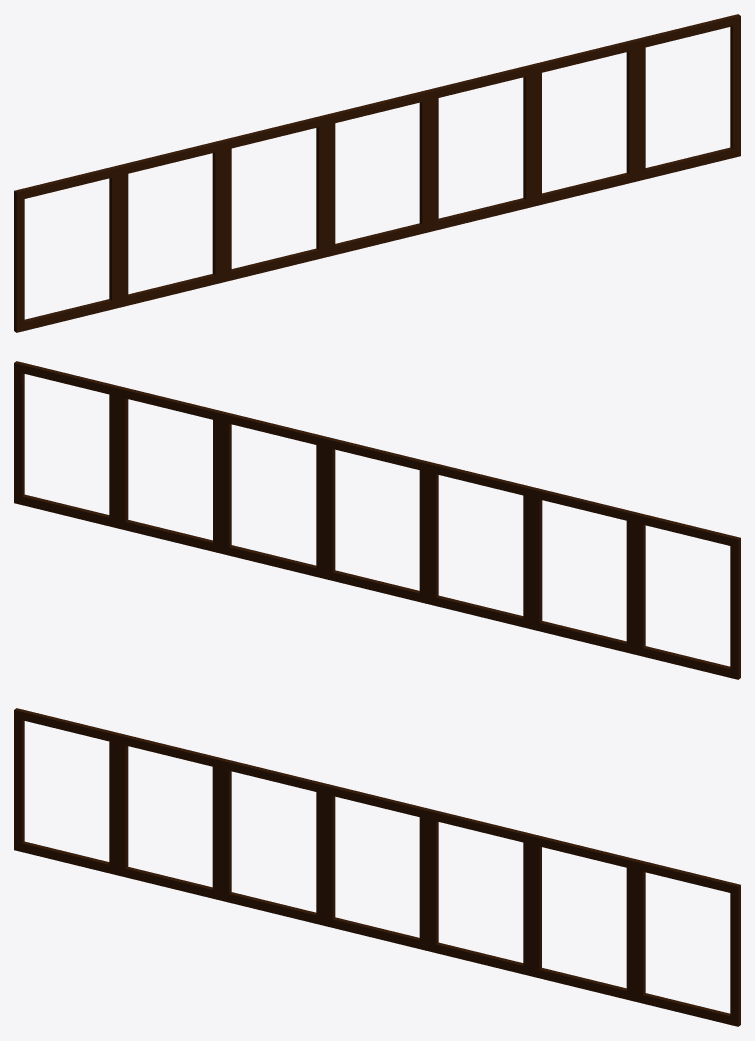
Rendered from reja3.fbx.
3 views of the same model, one above another, from view 1: azimuth 30°, elevation 25°; view 2: azimuth 150°, elevation 25°; view 3: azimuth 330°, elevation 25° (orthographic).
Parts seen in each view (by area): view 1: Cube.012; view 2: Cube.012; view 3: Cube.012.
Boxes of the visible parts, bbox=[...] form: Cube.012: bbox=[14, 14, 740, 332]; Cube.012: bbox=[14, 361, 740, 679]; Cube.012: bbox=[14, 708, 740, 1026].
Bounding box in the file's own units: 5062 × 936 × 32.14.
